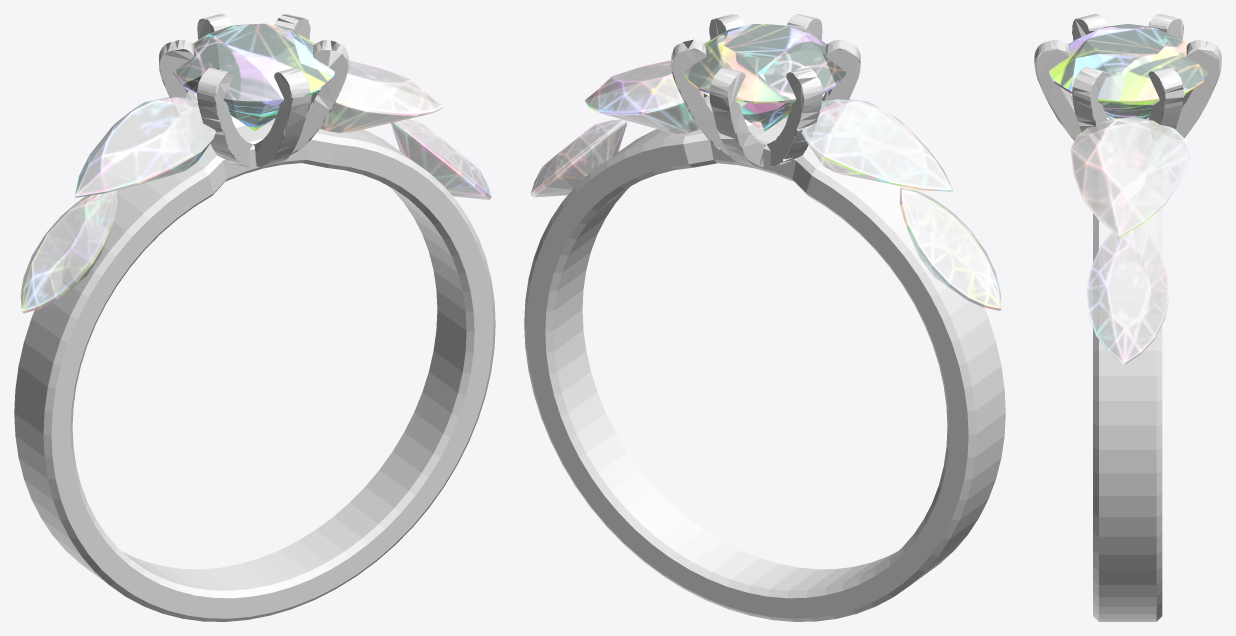
File: aurora.glb
3 renders of one model, left to right at view 1: azimuth 30°, elevation 25°; view 2: azimuth 150°, elevation 25°; view 3: azimuth 270°, elevation 25°, orthographic.
Visible parts, largest first — view 1: ThinRing3, ThinRing1, Prongs, ThinRing2, ThinRing; view 2: ThinRing3, ThinRing1, Prongs, ThinRing2, ThinRing; view 3: ThinRing3, ThinRing1, Prongs, ThinRing2, ThinRing.
Part boxes in pixels (x1=…): ThinRing3: x1=14, y1=121, x2=495, y2=621; ThinRing1: x1=74, y1=60, x2=443, y2=197; Prongs: x1=159, y1=14, x2=348, y2=166; ThinRing2: x1=20, y1=119, x2=491, y2=313; ThinRing: x1=173, y1=23, x2=334, y2=131; ThinRing3: x1=524, y1=122, x2=1005, y2=621; ThinRing1: x1=584, y1=60, x2=953, y2=191; Prongs: x1=671, y1=14, x2=860, y2=166; ThinRing2: x1=530, y1=119, x2=1001, y2=310; ThinRing: x1=684, y1=24, x2=845, y2=131; ThinRing3: x1=1093, y1=168, x2=1162, y2=621; ThinRing1: x1=1070, y1=117, x2=1190, y2=237; Prongs: x1=1034, y1=14, x2=1221, y2=141; ThinRing2: x1=1086, y1=225, x2=1169, y2=364; ThinRing: x1=1049, y1=24, x2=1207, y2=118.
Bounding box in the file's own units: 295 × 339 × 103.
Materials: 5 (3 with a texture image).
